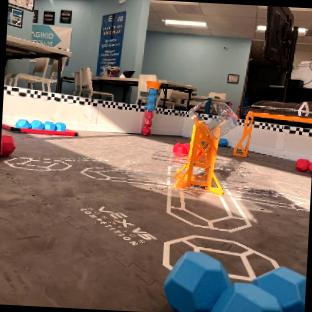V5_BLUE: (165, 251, 305, 312), (15, 120, 65, 130), (219, 138, 227, 146)
V5_RED: (0, 135, 14, 155), (296, 159, 312, 171), (174, 142, 189, 153)
